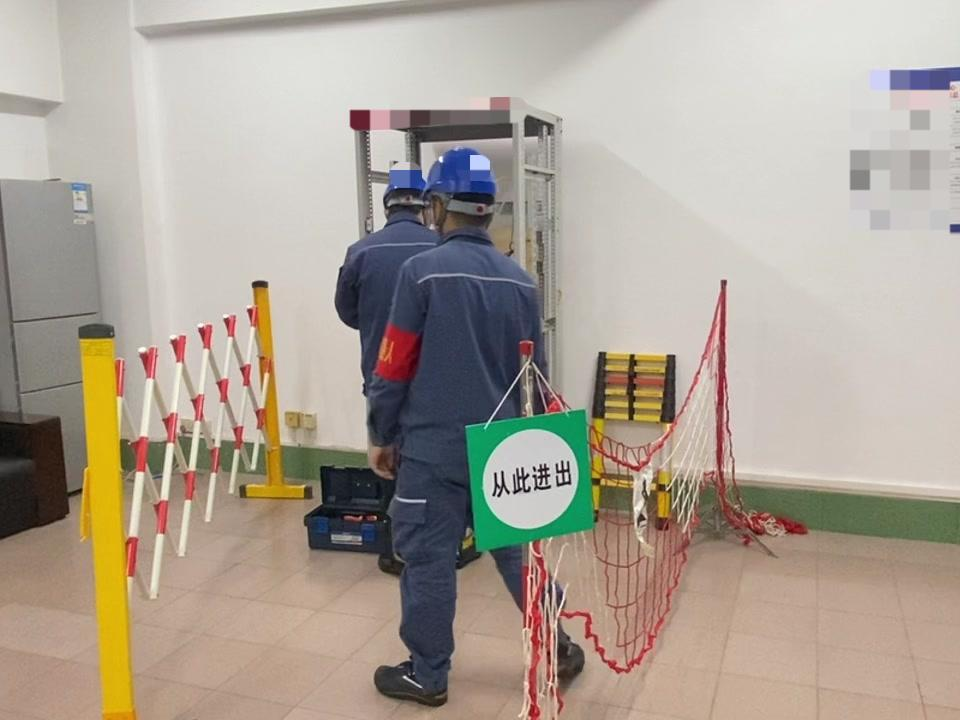halt: (430, 148, 503, 232), (385, 173, 431, 219)
inear: (431, 193, 455, 233)
